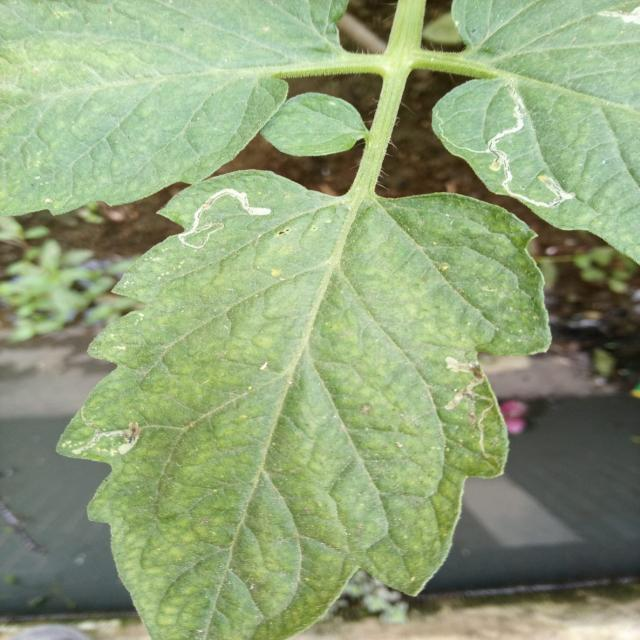Tuta absoluta: (459, 77, 575, 225), (168, 172, 272, 263), (443, 356, 495, 453), (68, 420, 146, 466)
